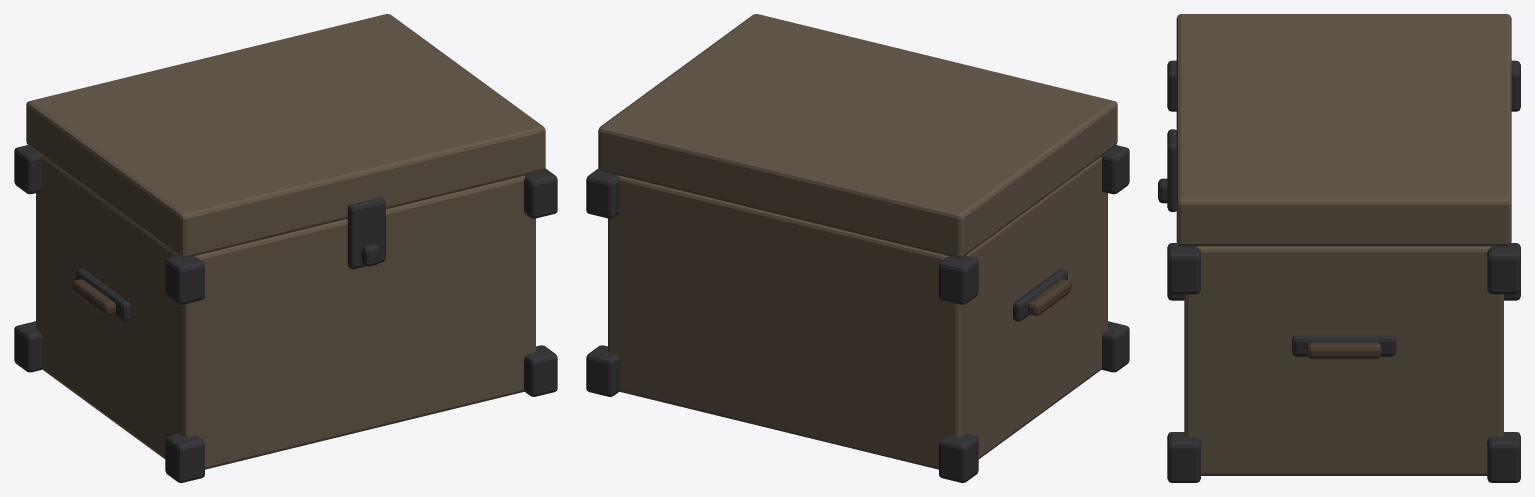
File: SM_Furniture_StorageBox_01.glb
The picture shows the model from 3 angles, left to right: view 1: azimuth 30°, elevation 25°; view 2: azimuth 150°, elevation 25°; view 3: azimuth 270°, elevation 25°; orthographic projection. The views are drawn at different scales.
Visible parts, largest first — view 1: SM_Furniture_StorageBox_01; view 2: SM_Furniture_StorageBox_01; view 3: SM_Furniture_StorageBox_01.
Part boxes in pixels (<box>): SM_Furniture_StorageBox_01: <box>14,14,557,482</box>; SM_Furniture_StorageBox_01: <box>586,14,1129,482</box>; SM_Furniture_StorageBox_01: <box>1158,14,1520,482</box>.
Size of the model in its own units: 0.65 by 0.415 by 0.4875.
